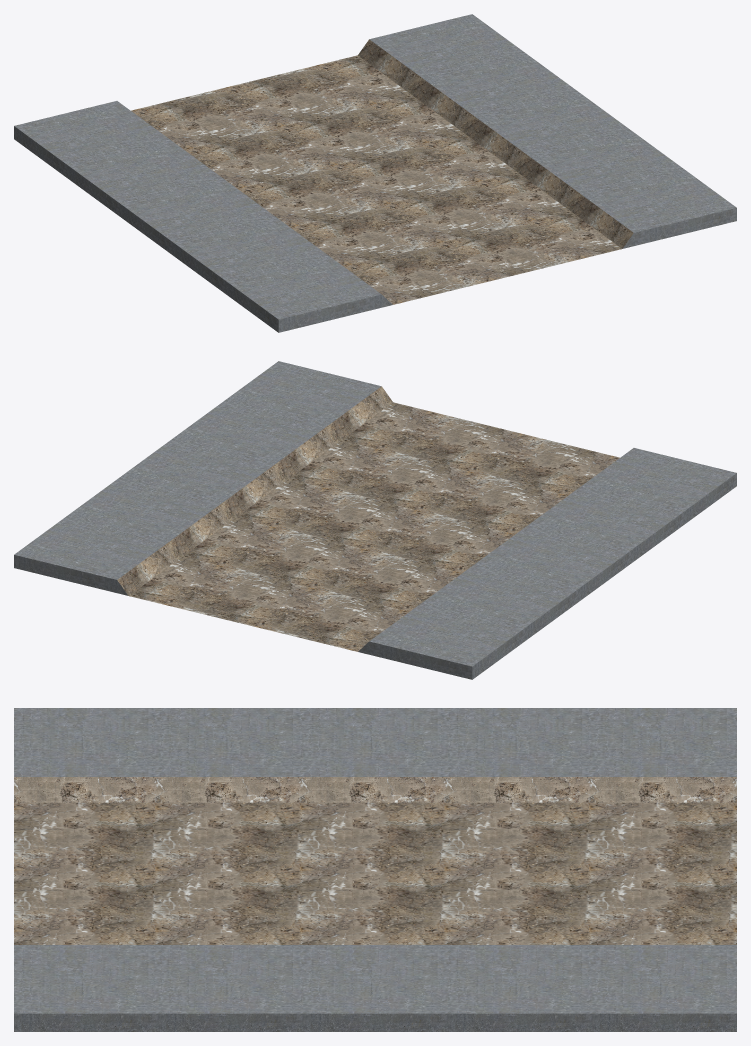
3 views of the same model, one above another, from view 1: azimuth 30°, elevation 25°; view 2: azimuth 150°, elevation 25°; view 3: azimuth 270°, elevation 25° (orthographic). The views are drawn at different scales.
Parts seen in each view (by area): view 1: TexturesCom_ConcreteRough0076_1_seamless_S, TexturesCom_ConcreteBare0398_7_seamless_S; view 2: TexturesCom_ConcreteRough0076_1_seamless_S, TexturesCom_ConcreteBare0398_7_seamless_S; view 3: TexturesCom_ConcreteRough0076_1_seamless_S, TexturesCom_ConcreteBare0398_7_seamless_S.
Boxes of the visible parts, <box> form: TexturesCom_ConcreteRough0076_1_seamless_S: <box>131,39,633,304</box>; TexturesCom_ConcreteBare0398_7_seamless_S: <box>14,14,736,332</box>; TexturesCom_ConcreteRough0076_1_seamless_S: <box>117,386,619,651</box>; TexturesCom_ConcreteBare0398_7_seamless_S: <box>14,361,736,679</box>; TexturesCom_ConcreteRough0076_1_seamless_S: <box>14,777,736,944</box>; TexturesCom_ConcreteBare0398_7_seamless_S: <box>14,708,736,1031</box>.
Bounding box in the file's own units: 5 × 0.1384 × 5.
2 materials, 2 textured.
